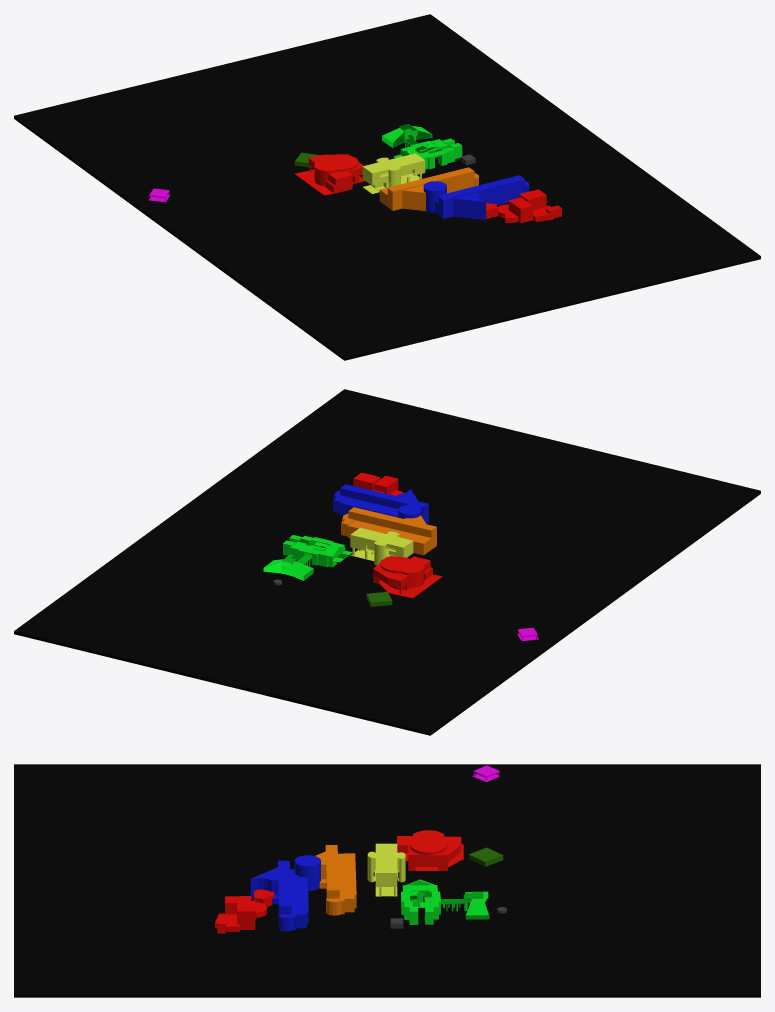
3 views of the same model, one above another, from view 1: azimuth 30°, elevation 25°; view 2: azimuth 150°, elevation 25°; view 3: azimuth 270°, elevation 25° (orthographic). The views are drawn at different scales.
Parts seen in each view (by area): view 1: Plano, Cubo006, Cube005, Cubo008_1, Cube003, Cube002, Cubo006_2; view 2: Plano, Cube003, Cubo008_1, Cubo006, Cube005, Cube002, Cubo006_2; view 3: Plano, Cubo006, Cube003, Cube005, Cubo008_1, Cube002, Cubo006_2, Cubo010_2.
Boxes of the visible parts, x1,y1,x2,y2 form: Plano: (14, 14, 760, 360); Cubo006: (423, 175, 529, 220); Cube005: (294, 154, 365, 195); Cubo008_1: (379, 167, 478, 211); Cube003: (382, 124, 462, 169); Cube002: (362, 153, 425, 193); Cubo006_2: (486, 189, 561, 223); Plano: (14, 389, 760, 735); Cube003: (263, 535, 352, 580); Cubo008_1: (341, 507, 436, 555); Cubo006: (333, 484, 428, 523); Cube005: (373, 555, 442, 598); Cube002: (350, 527, 413, 565); Cubo006_2: (353, 473, 403, 495); Plano: (14, 764, 760, 997); Cubo006: (250, 855, 320, 931); Cube003: (401, 879, 489, 924); Cube005: (397, 830, 463, 870); Cubo008_1: (315, 845, 356, 915); Cube002: (367, 843, 405, 896); Cubo006_2: (215, 889, 274, 933); Cubo010_2: (468, 847, 503, 866).
Bounding box in the file's own units: 400 × 23.48 × 550.
